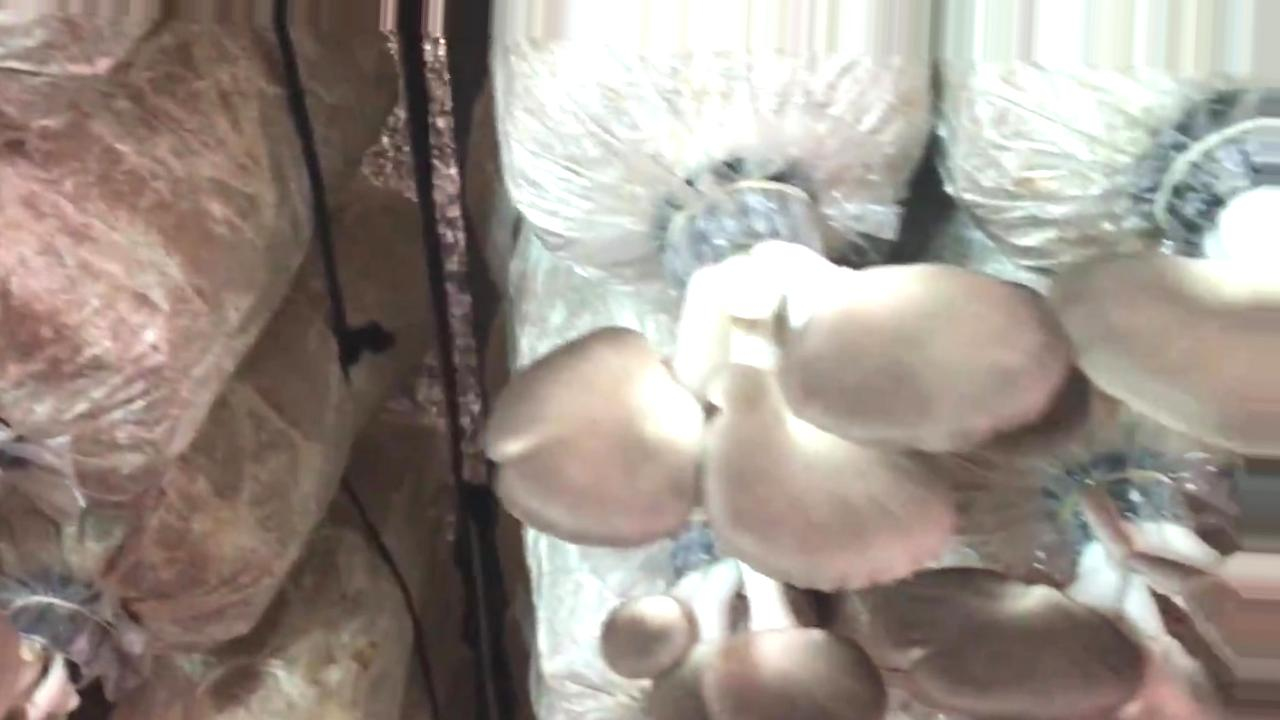nam: (488, 185, 1071, 588), (874, 453, 1280, 718), (1073, 121, 1280, 451), (606, 543, 884, 720)
